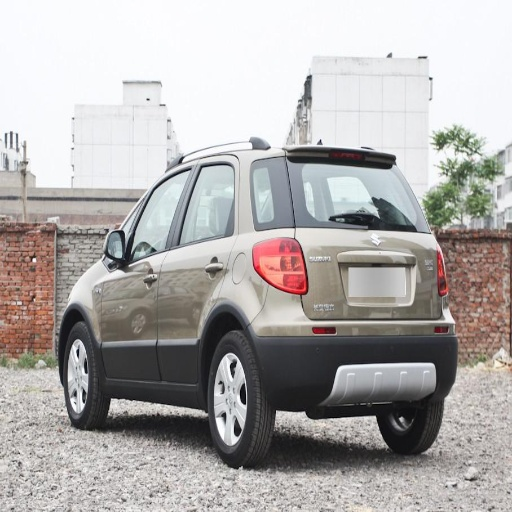back_bumper: (249, 283, 456, 406)
back_glass: (253, 152, 424, 229)
back_left_door: (160, 156, 238, 386)
tailgate: (303, 229, 432, 322)
trunk: (297, 229, 373, 276)
